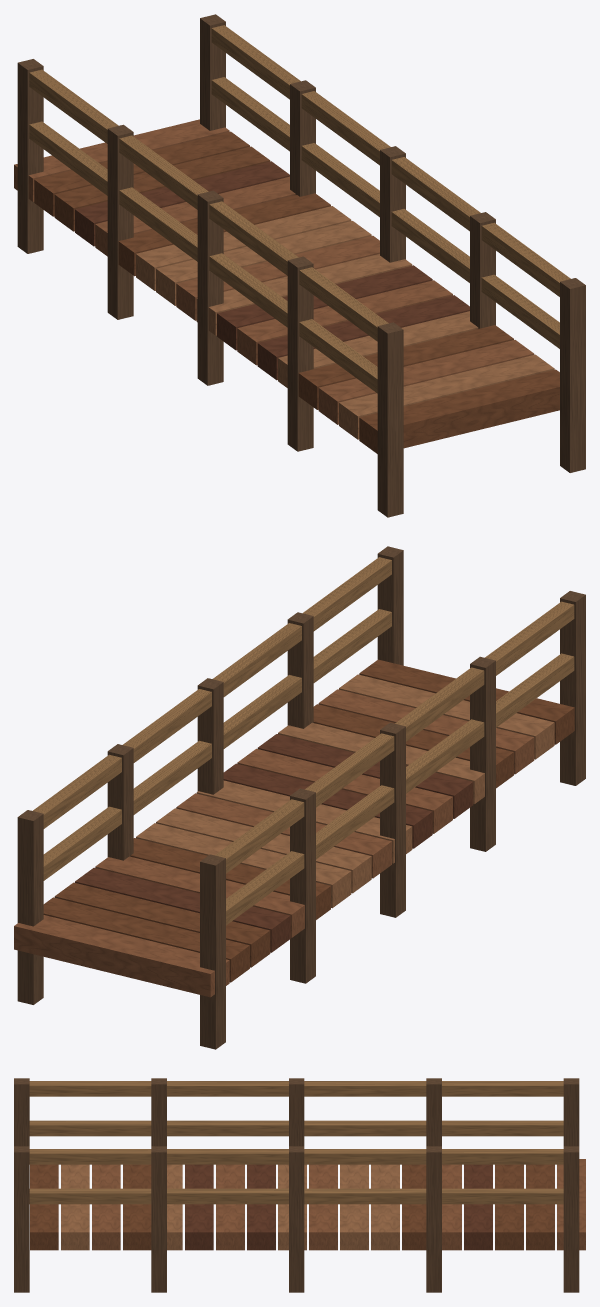
File: footbridge.glb
3 views of the same model, one above another, from view 1: azimuth 30°, elevation 25°; view 2: azimuth 150°, elevation 25°; view 3: azimuth 270°, elevation 25° (orthographic). The views are drawn at different scales.
Parts seen in each view (by area): view 1: footbridge; view 2: footbridge; view 3: footbridge.
Part boxes in pixels (x1,y1,x2,y2): footbridge: [14, 14, 585, 517]; footbridge: [14, 546, 585, 1049]; footbridge: [14, 1078, 585, 1292].
Size of the model in its own units: 1.24 by 1.1 by 4.06.
Materials: 1 (1 with a texture image).
